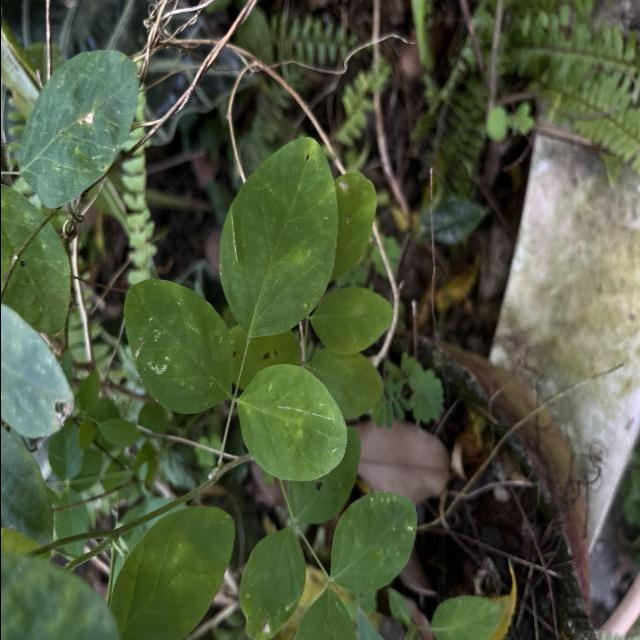Clitoria ternatea: (217, 136, 340, 339), (123, 278, 235, 416), (235, 363, 348, 482), (328, 490, 418, 593)
